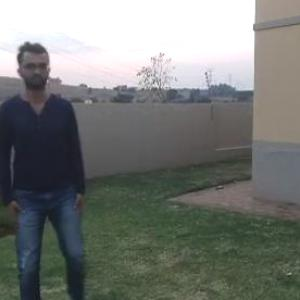follow: (14, 37, 97, 299)
